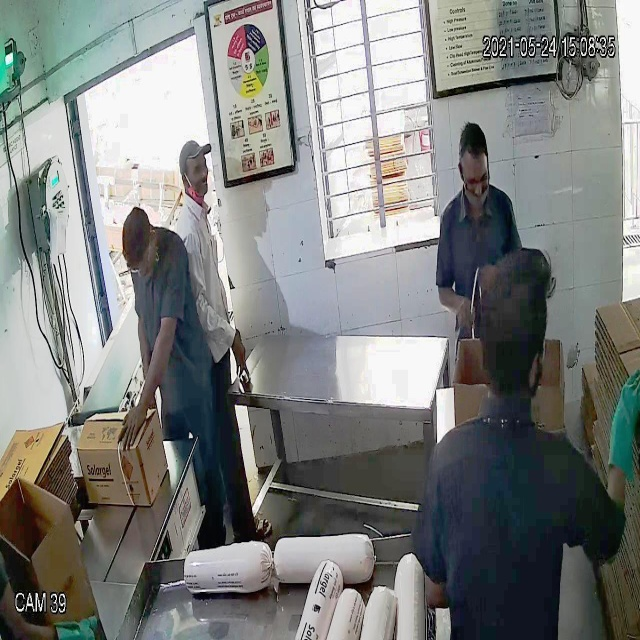Sin_gafas: (178, 156, 209, 186)
